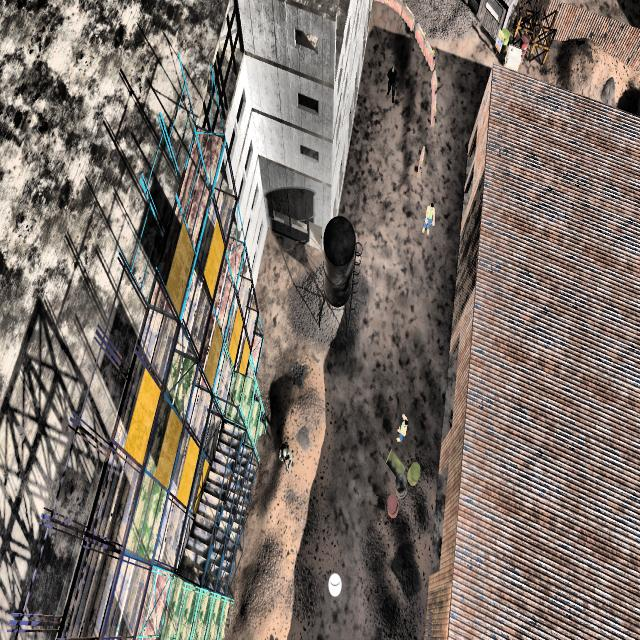bad: (382, 54, 400, 105), (274, 434, 294, 479)
good: (392, 401, 411, 450), (420, 195, 438, 243)
